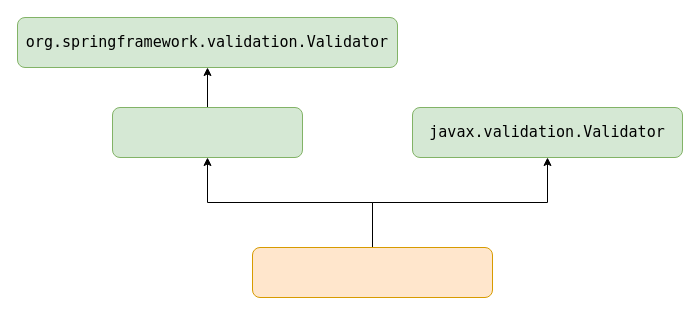
Some shapes in this 700 by 315 pixel diagram are drawn without their labels. The box of each missing label's shape, as (x1, y1, x2, y2) in pixels:
SmartValidator: (112, 106, 302, 158)
SpringValidatorAdapter: (252, 246, 492, 298)
